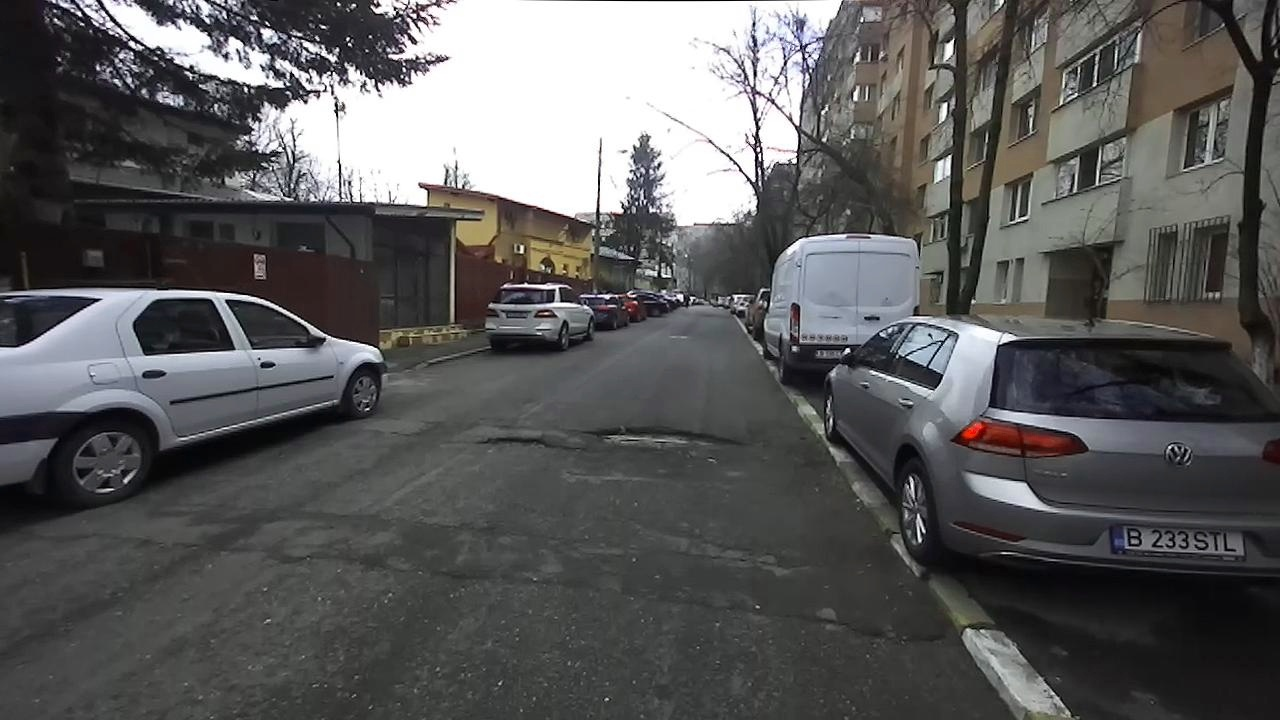pothole: (581, 422, 749, 456), (801, 608, 942, 648), (474, 431, 558, 450)
